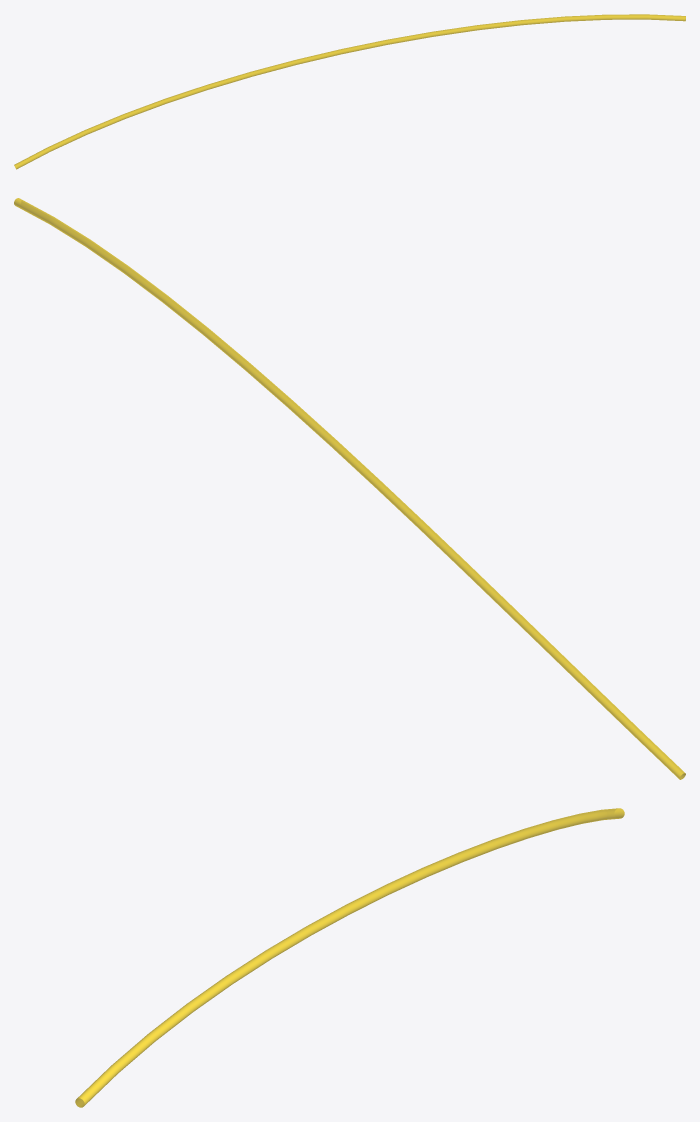
Rendered from Event_27938768_track_1.fbx.
3 views of the same model, one above another, from view 1: azimuth 30°, elevation 25°; view 2: azimuth 150°, elevation 25°; view 3: azimuth 270°, elevation 25° (orthographic). The views are drawn at different scales.
Parts seen in each view (by area): view 1: Model; view 2: Model; view 3: Model.
Boxes of the visible parts, bbox=[...] form: Model: bbox=[14, 14, 685, 169]; Model: bbox=[14, 198, 685, 779]; Model: bbox=[75, 808, 624, 1107].
Bounding box in the file's own units: 4.7 × 1.04 × 2.08.
